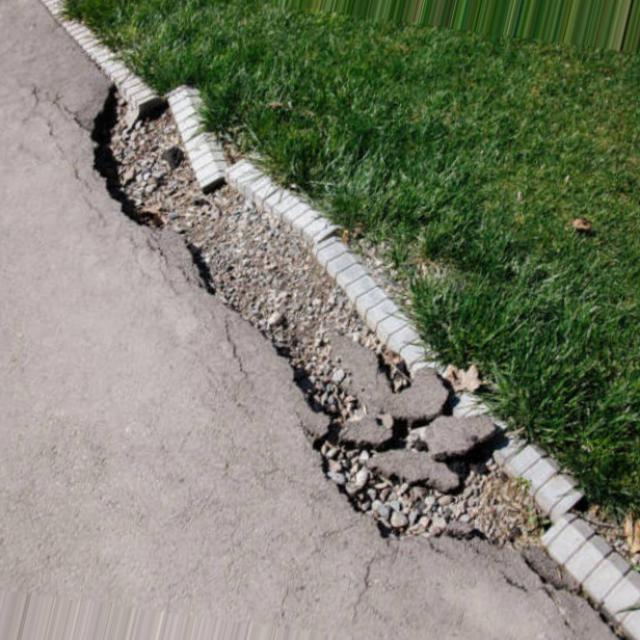Pinggir: (83, 65, 604, 551)
